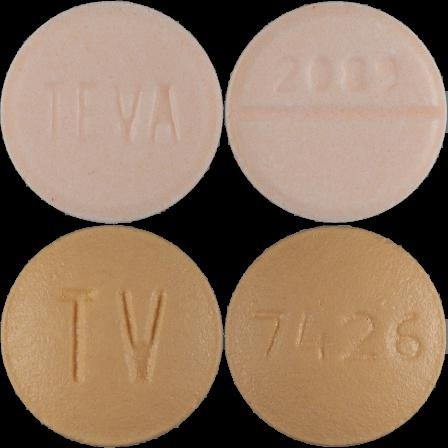68645-511: (0, 0, 224, 224)
